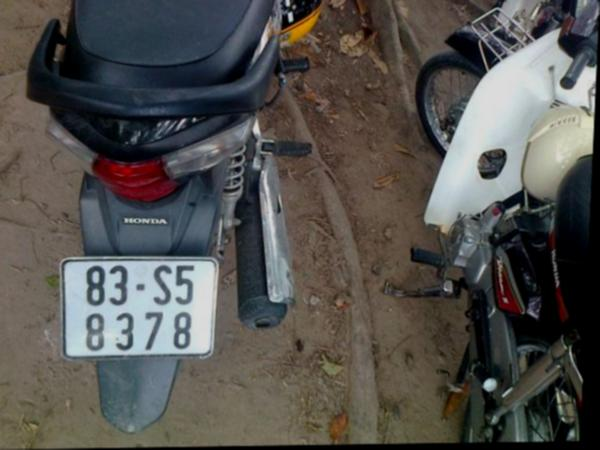License_Plate: (65, 254, 223, 367)
